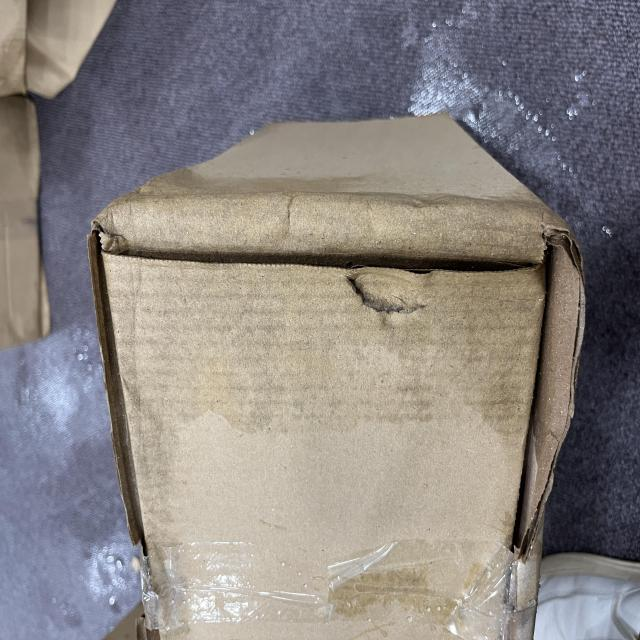wet: (84, 170, 534, 487)
